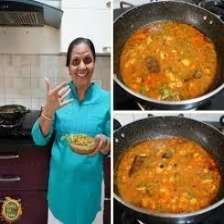sabzi: (114, 133, 224, 216)
